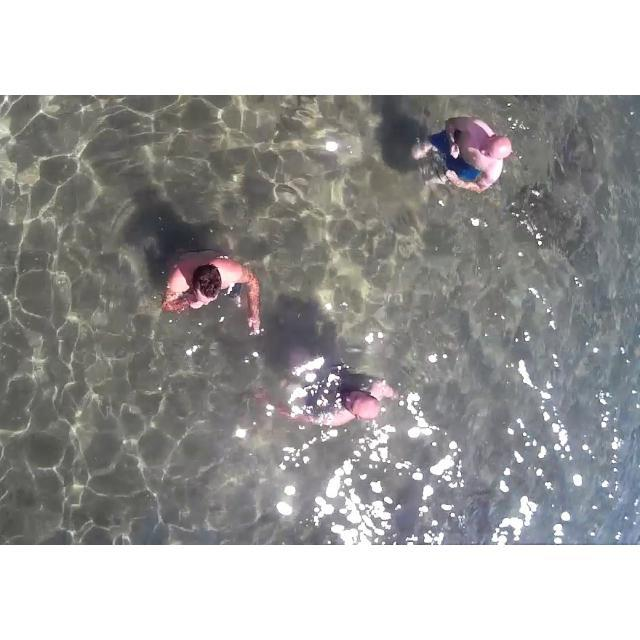human: (154, 243, 267, 342), (404, 102, 509, 203), (273, 358, 388, 435)
